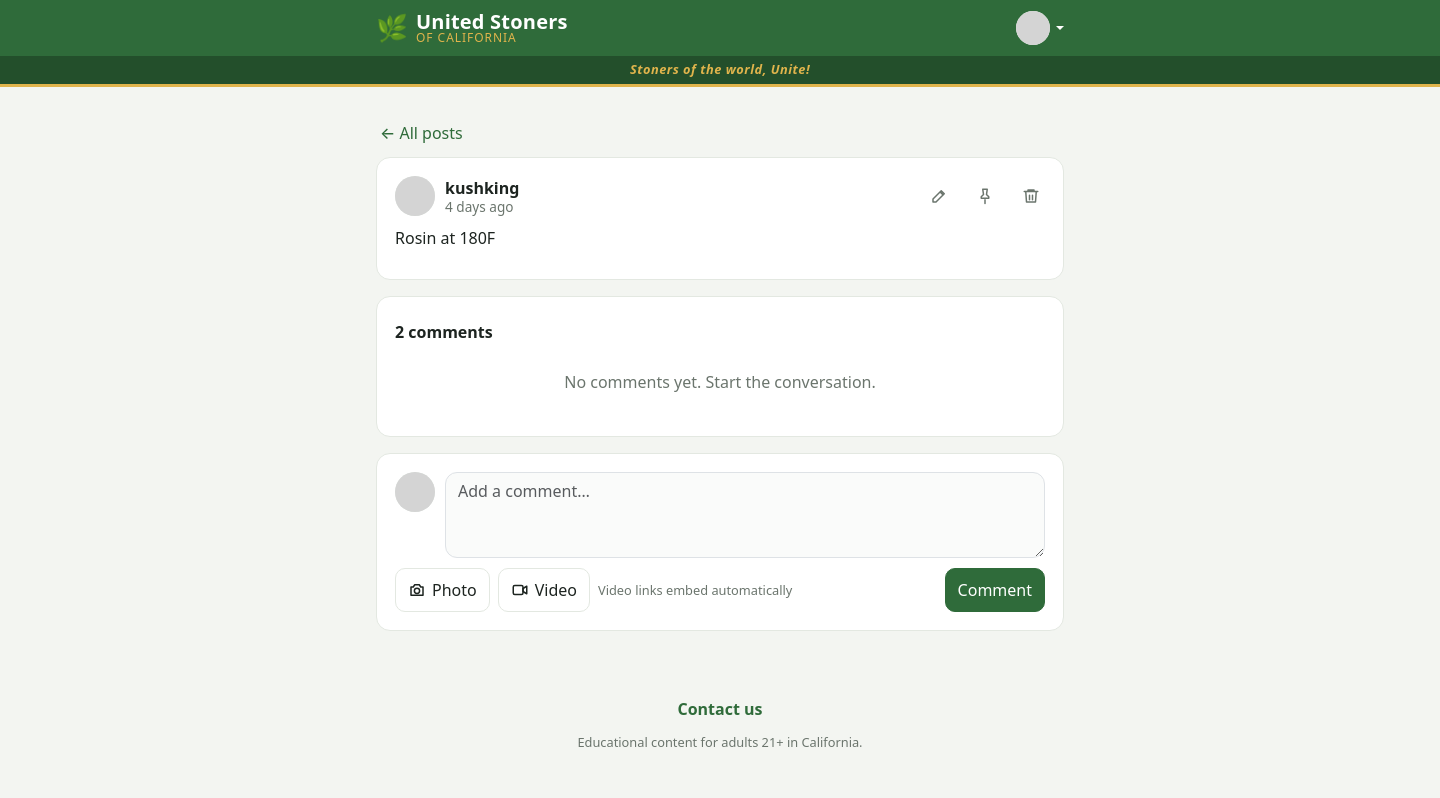
Test case: editing posts › cancel leaves the post unchanged
Click the button named "Edit" at (939, 196), box [917,174,961,218]
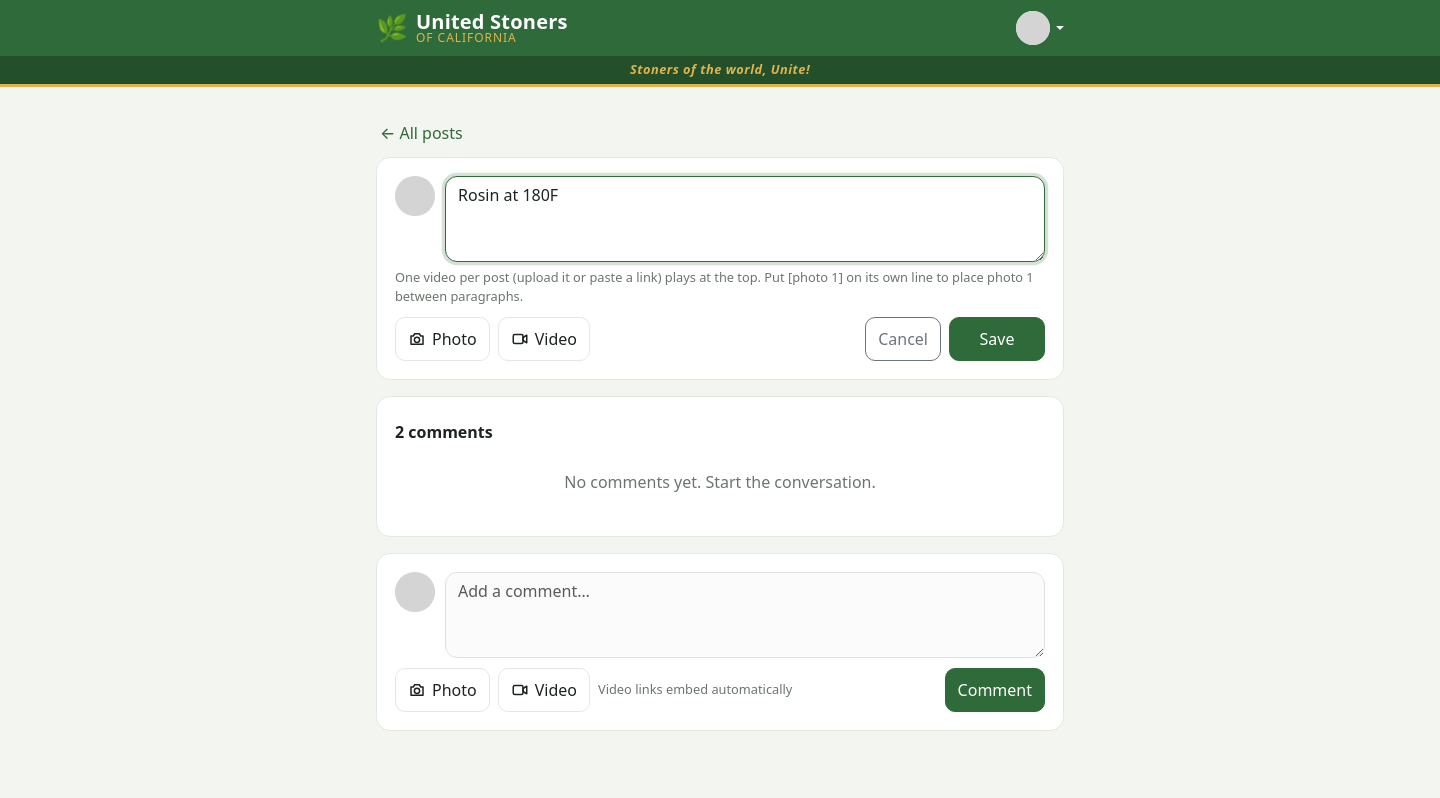
Type " extra" into the text box with placeholder "Edit the post…" at (745, 219), box [445,176,1045,262]
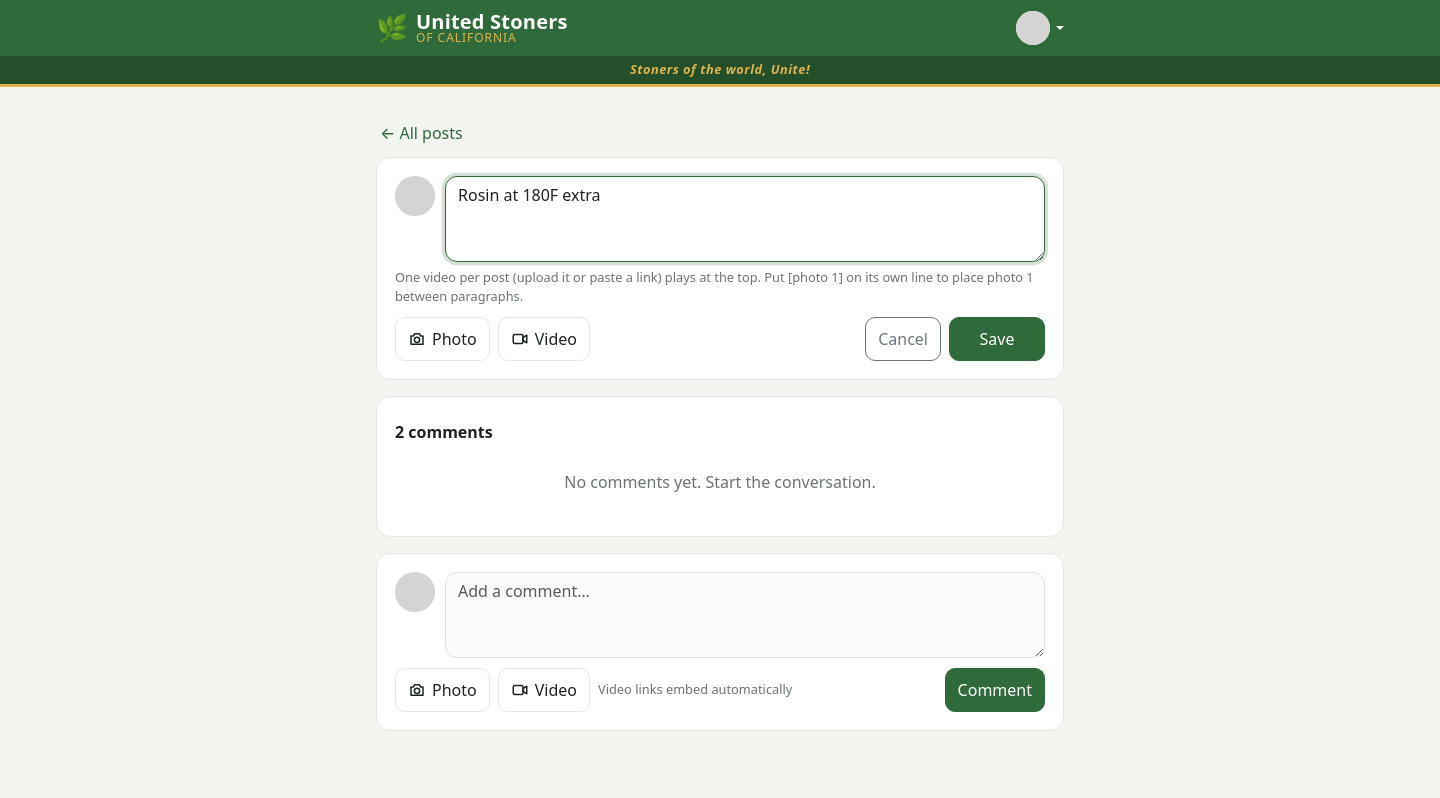
Click the button "Cancel" at (903, 339), box [865,317,941,361]
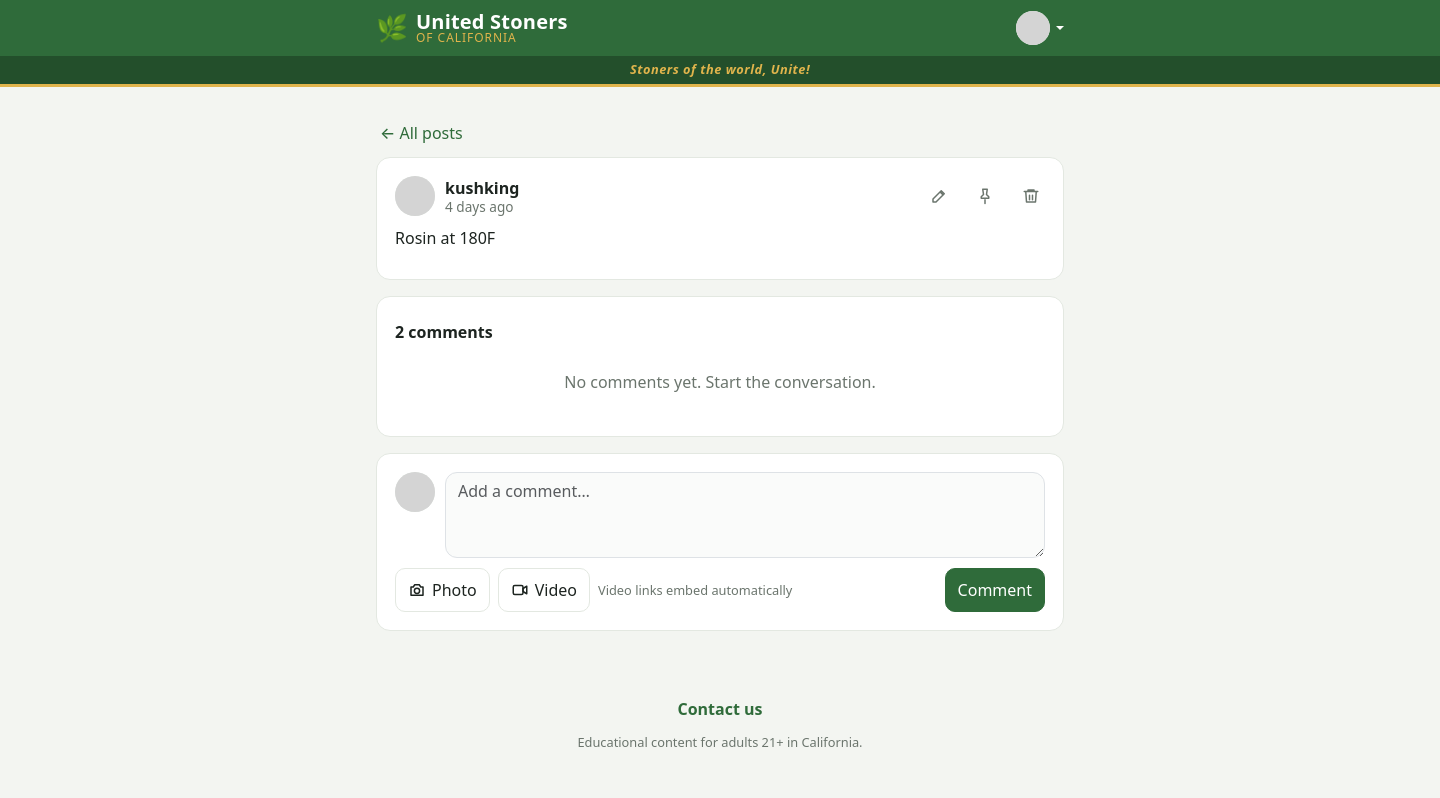
Check: the text "Rosin at 180F" is shown, box [395,227,495,249]
